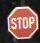Stop sign: (0, 0, 39, 42)
